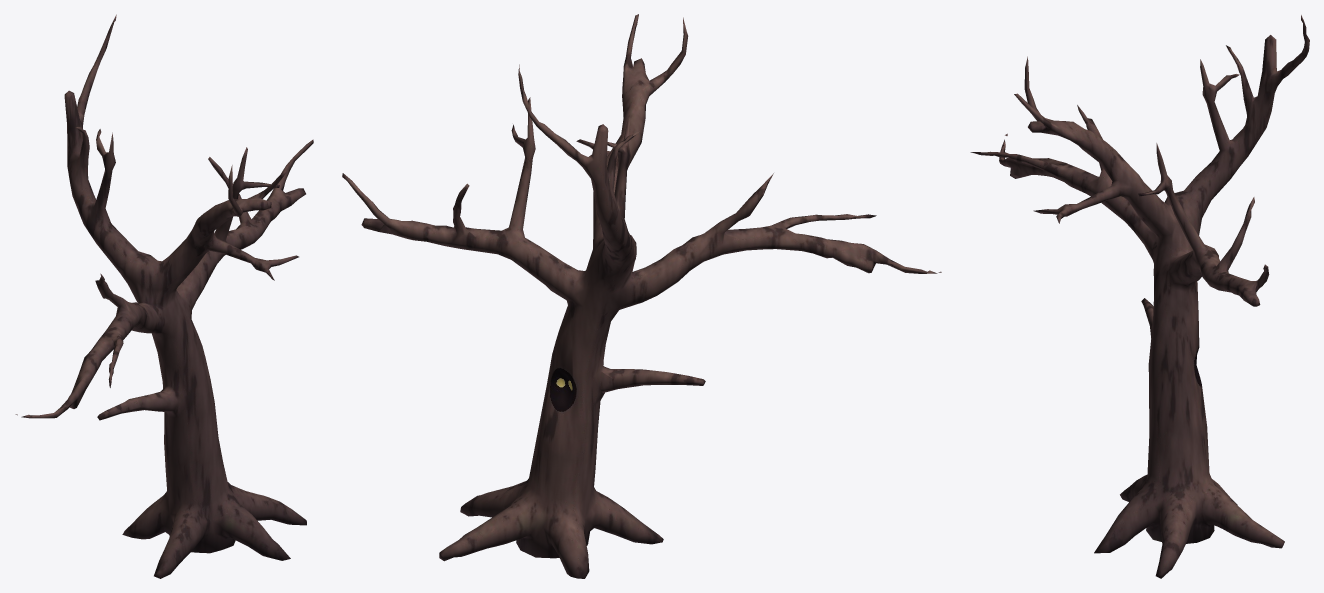
The model's file is dead_tree_b.glb.
3 views of the same model, side by side, from view 1: azimuth 30°, elevation 25°; view 2: azimuth 150°, elevation 25°; view 3: azimuth 270°, elevation 25° (orthographic). The views are drawn at different scales.
Parts seen in each view (by area): view 1: Trunk; view 2: Trunk; view 3: Trunk.
Part boxes in pixels (box(x1,y1,x2,y2)): Trunk: box(15, 14, 313, 578); Trunk: box(342, 14, 941, 578); Trunk: box(970, 15, 1309, 578).
Bounding box in the file's own units: 3.13 × 3.45 × 2.11.
Materials: 1 (1 with a texture image).
